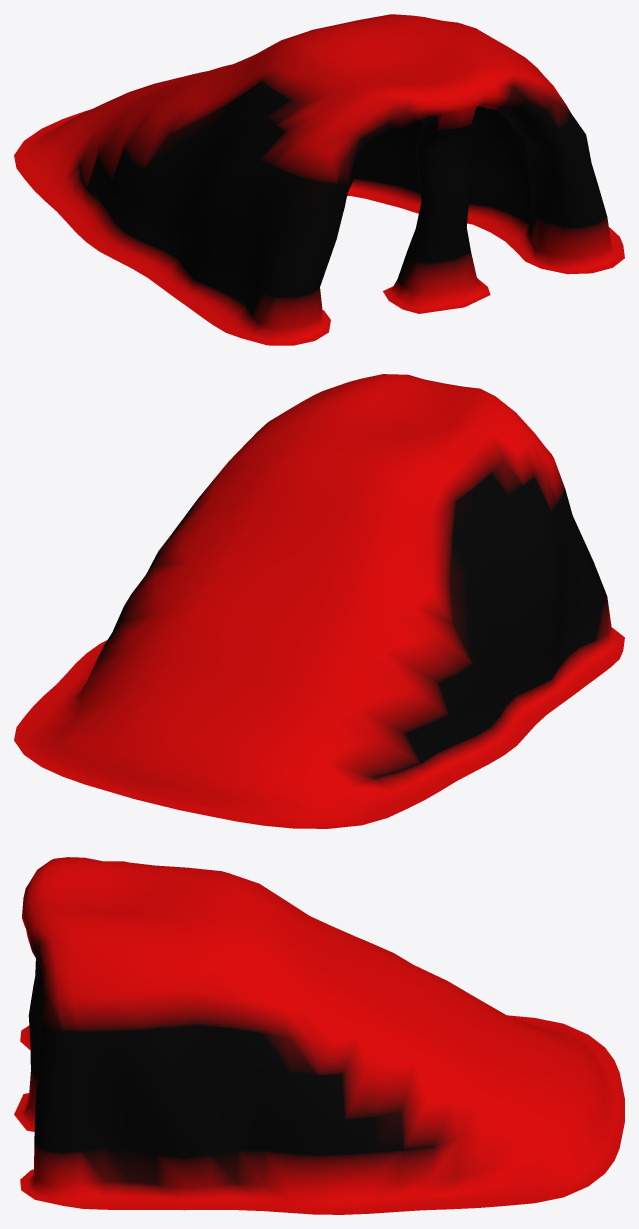
Rendered from GroundObject11C.fbx.
The picture shows the model from 3 angles, top to bottom: view 1: azimuth 30°, elevation 25°; view 2: azimuth 150°, elevation 25°; view 3: azimuth 270°, elevation 25°; orthographic projection. The views are drawn at different scales.
Visible parts, largest first — view 1: GroundObject11C; view 2: GroundObject11C; view 3: GroundObject11C.
Part boxes in pixels (bbox=[...]): GroundObject11C: bbox=[14, 14, 624, 345]; GroundObject11C: bbox=[14, 374, 624, 828]; GroundObject11C: bbox=[14, 857, 624, 1214].
Size of the model in its own units: 3.68 by 1.85 by 4.56.
